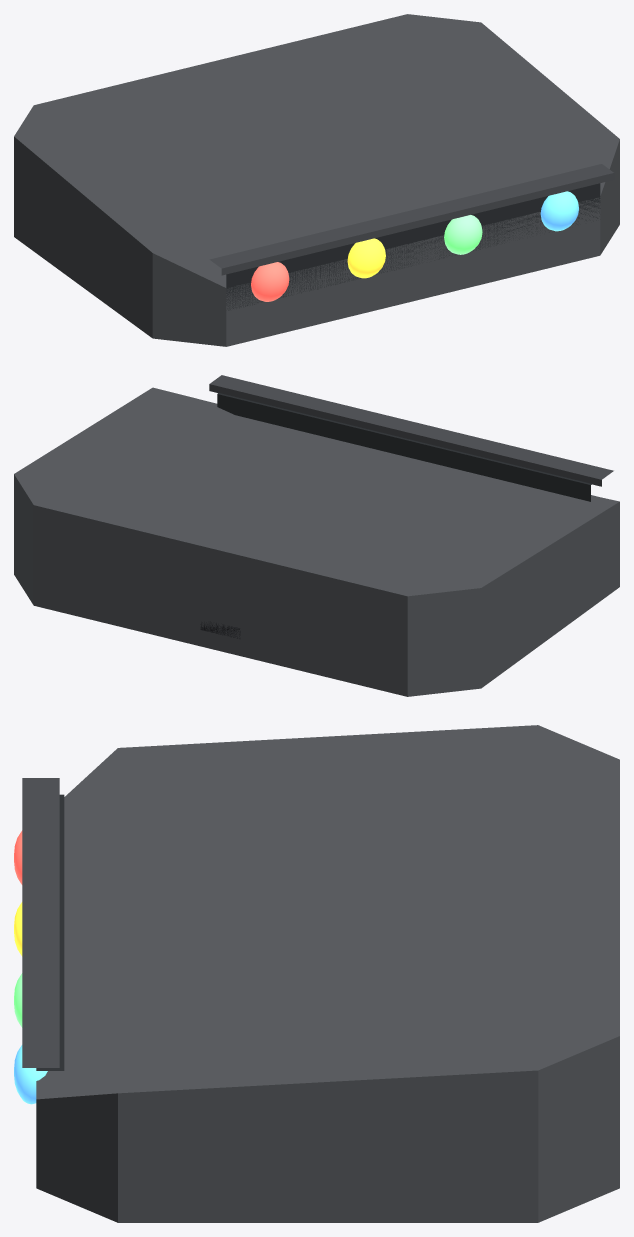
The model's file is ins1-1.glb.
3 renders of one model, top to bottom at view 1: azimuth 30°, elevation 25°; view 2: azimuth 150°, elevation 25°; view 3: azimuth 270°, elevation 25°, orthographic. The views are drawn at different scales.
Visible parts, largest first — view 1: Body, VisorLip, Visor, LED_1, LED_3, LED_0, LED_2; view 2: Body, VisorLip, Visor; view 3: Body, VisorLip, Visor, LED_3.
Boxes of the visible parts, bbox=[...] form: Body: bbox=[14, 14, 619, 346]; VisorLip: bbox=[209, 164, 614, 275]; Visor: bbox=[226, 183, 600, 310]; LED_1: bbox=[347, 238, 385, 278]; LED_3: bbox=[540, 191, 578, 231]; LED_0: bbox=[251, 262, 289, 301]; LED_2: bbox=[444, 215, 482, 254]; Body: bbox=[14, 387, 619, 696]; VisorLip: bbox=[209, 375, 613, 486]; Visor: bbox=[217, 393, 591, 501]; Body: bbox=[36, 725, 619, 1222]; VisorLip: bbox=[22, 778, 59, 1067]; Visor: bbox=[36, 794, 64, 1070]; LED_3: bbox=[14, 1045, 47, 1104].
Size of the model in its own units: 3.5 by 0.75 by 2.6.
